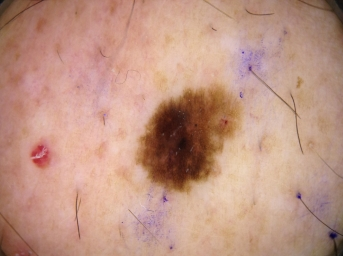melanoma: (137, 85, 244, 190)
